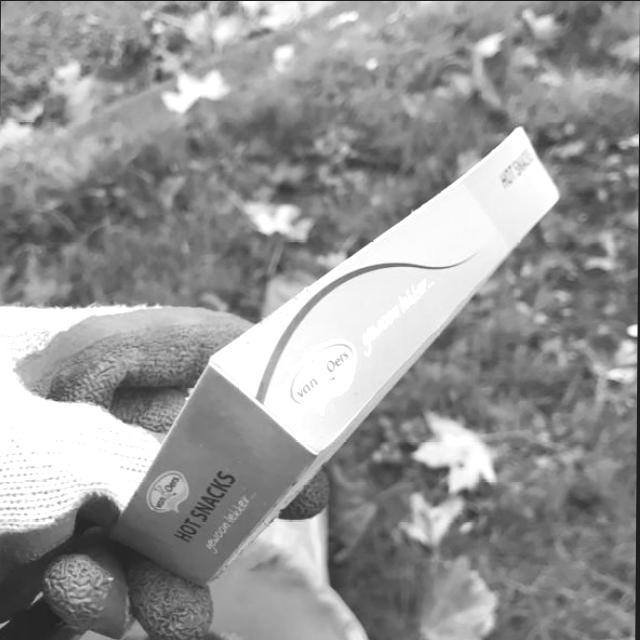Paper: (100, 116, 562, 590)
